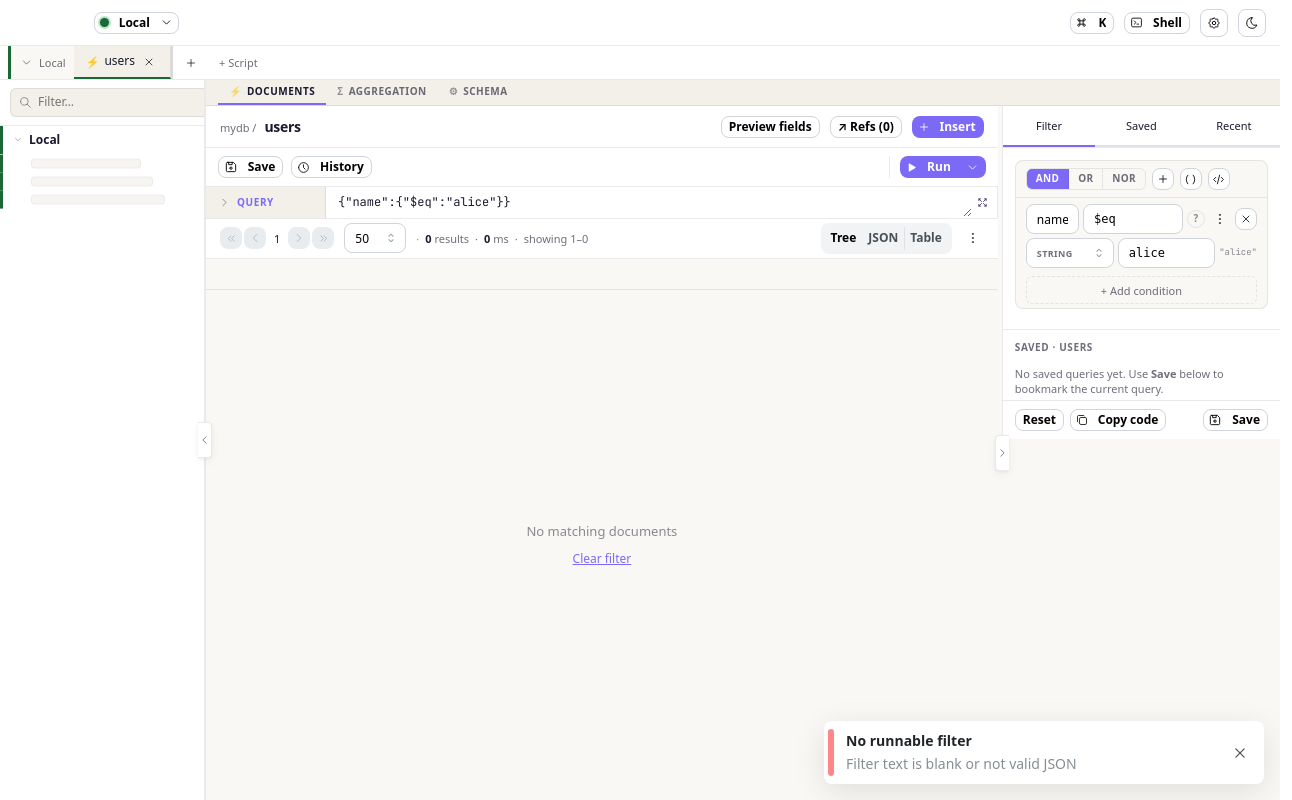
Scenario: builder edits do not clobber a hand-edited filter › removing the last condition collapses the filter to {} in the bar
The width and height of the screenshot is (1292, 800).
Expected: the text box with test id "query-bar-input" holds "{\"name\":{\"$eq\":\"alice\"}}", x1=330 y1=187 x2=972 y2=218
Click the button named "Remove condition name" at (1246, 219), box x1=1235 y1=208 x2=1257 y2=230
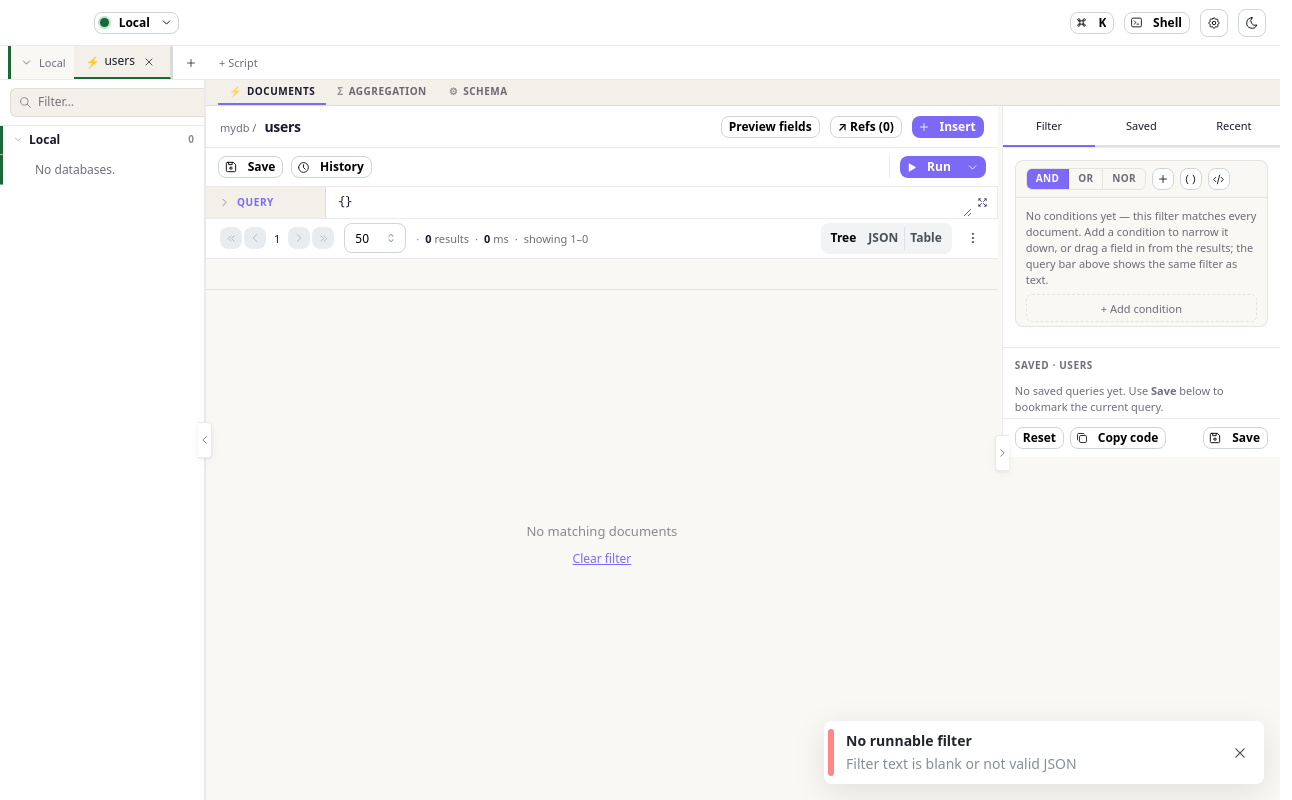
Expected: the text box with test id "query-bar-input" holds "{}", x1=330 y1=187 x2=972 y2=218
